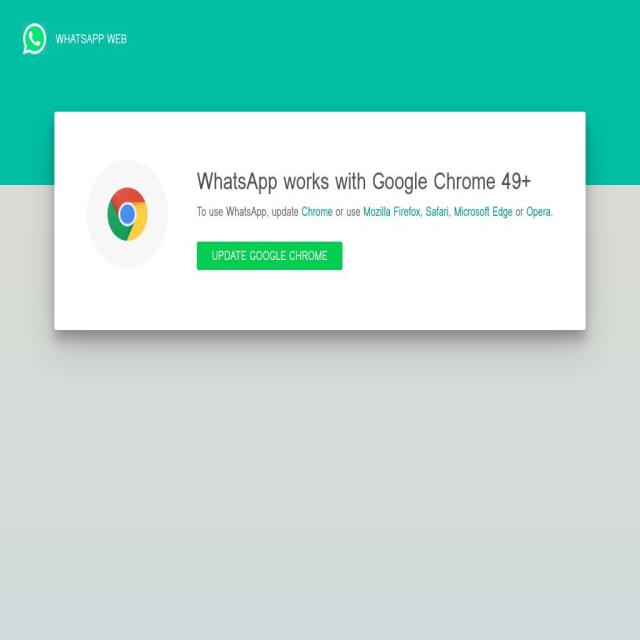button: (197, 242, 343, 270)
heading: (197, 163, 553, 199)
image: (105, 184, 150, 244), (22, 23, 47, 55)
link: (454, 202, 513, 221), (363, 202, 421, 221), (302, 202, 332, 221), (526, 202, 552, 221), (426, 202, 450, 221)
text: (197, 202, 302, 221), (56, 30, 126, 48), (332, 202, 364, 221), (512, 202, 527, 221), (420, 202, 426, 221), (448, 202, 454, 221), (550, 202, 554, 221)
